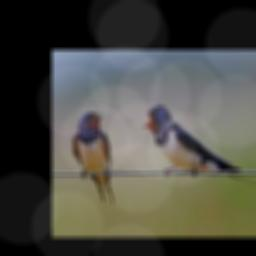Swallow: (140, 105, 256, 186), (73, 110, 113, 204)
